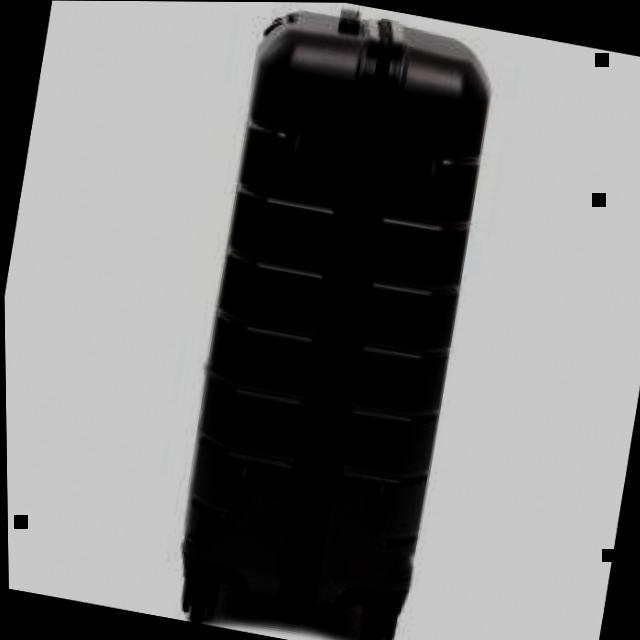luggage: (139, 1, 521, 640)
